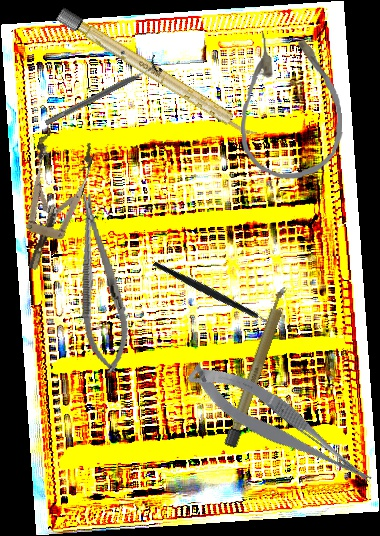Cannula: (236, 27, 345, 182)
Chopper: (151, 225, 283, 360)
Fixation Ring: (40, 54, 164, 132)
Micro Scissor: (183, 344, 378, 509)
Needle Holder: (64, 190, 136, 376)
Scalpel Handle: (55, 6, 260, 143), (223, 284, 292, 449)
Speculum: (4, 126, 98, 277)
